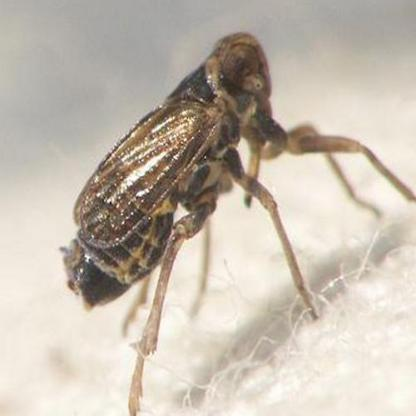brown-planthopper: (64, 27, 282, 313)
